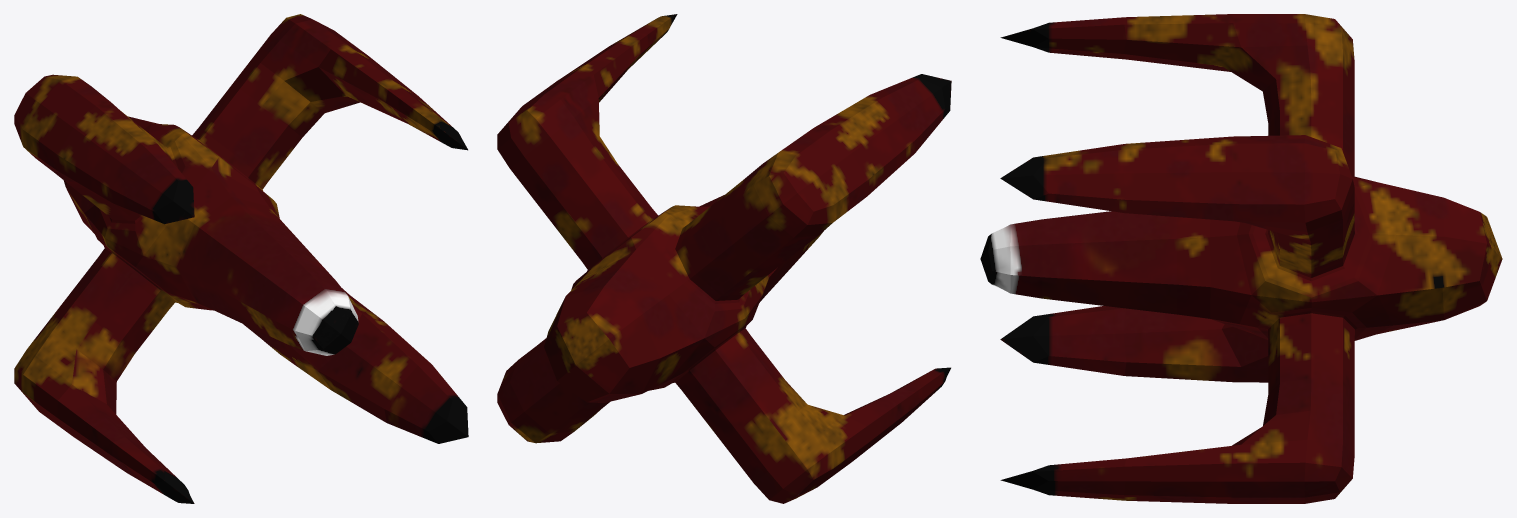
File: ship 3D.fbx
3 views of the same model, side by side, from view 1: azimuth 30°, elevation 25°; view 2: azimuth 150°, elevation 25°; view 3: azimuth 270°, elevation 25° (orthographic). The views are drawn at different scales.
Visible parts, largest first — view 1: Baked Drone; view 2: Baked Drone; view 3: Baked Drone.
Part boxes in pixels (bbox=[...]): Baked Drone: bbox=[14, 14, 468, 503]; Baked Drone: bbox=[497, 14, 951, 503]; Baked Drone: bbox=[980, 14, 1502, 503].
Bounding box in the file's own units: 283 × 283 × 371.
